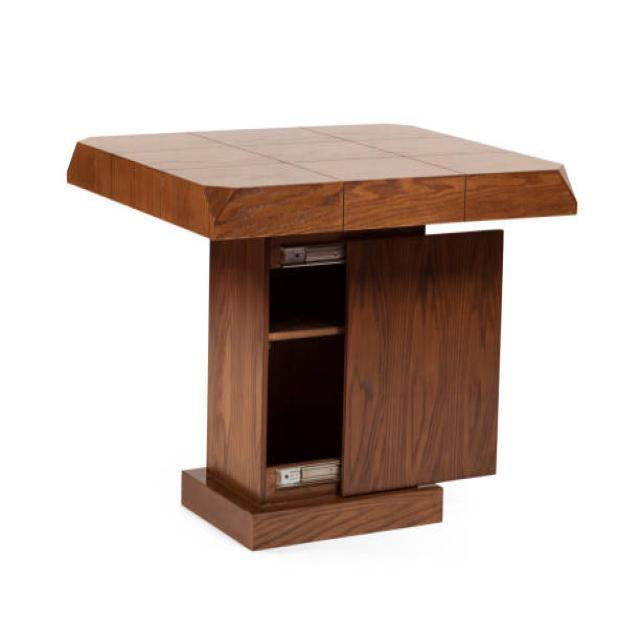table: (65, 121, 578, 551)
